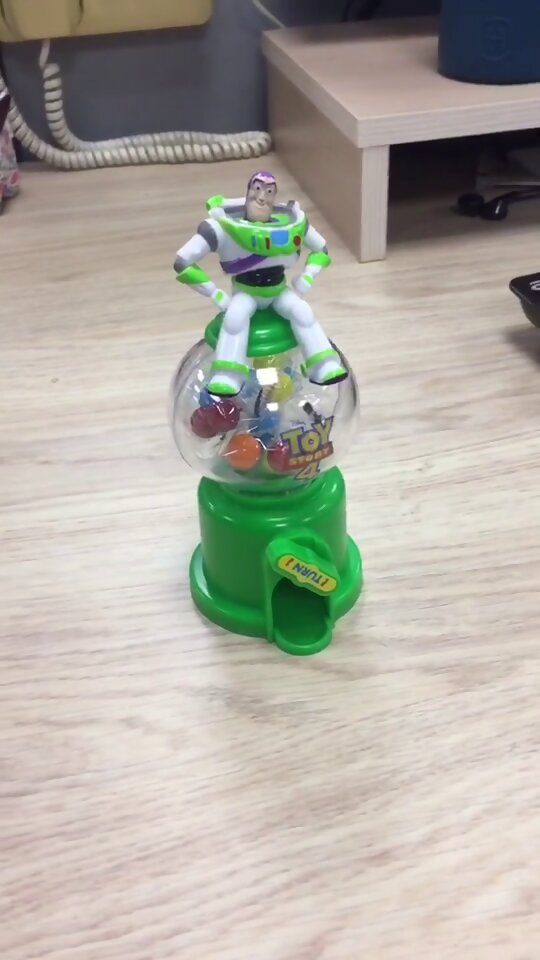buzz: (166, 166, 372, 659)
